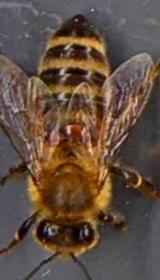varroa_mite: (54, 122, 92, 140)
